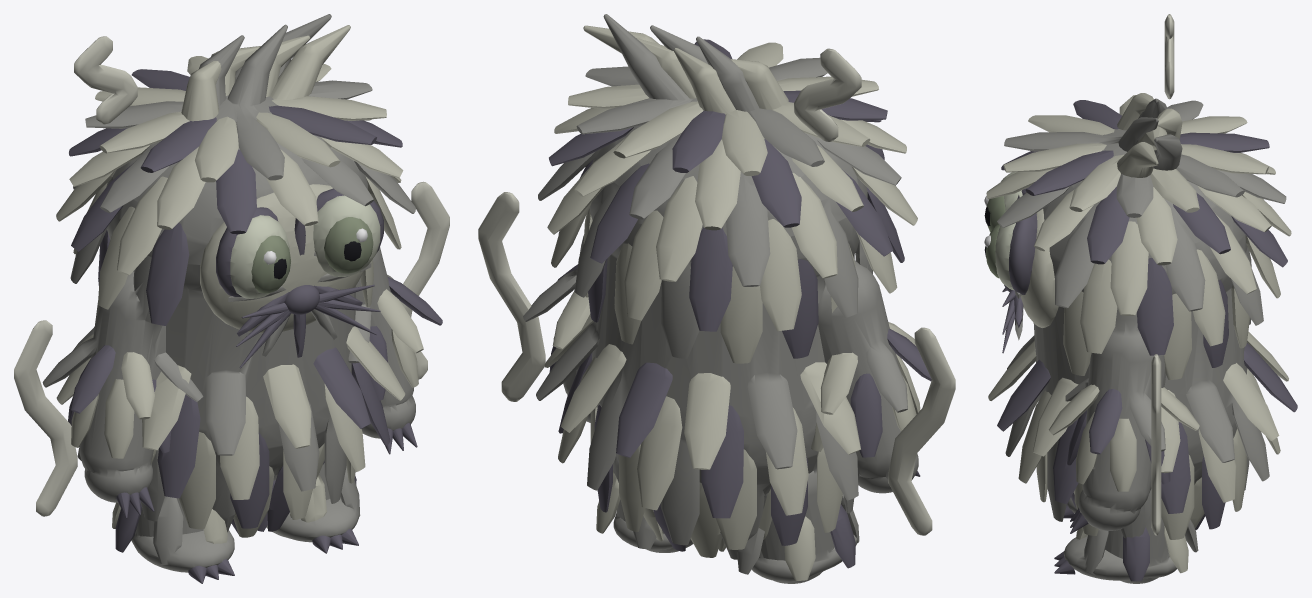
The model's file is fibrostis.glb.
The picture shows the model from 3 angles, left to right: view 1: azimuth 30°, elevation 25°; view 2: azimuth 150°, elevation 25°; view 3: azimuth 270°, elevation 25°; orthographic projection. The views are drawn at different scales.
Parts seen in each view (by area): view 1: creature; view 2: creature; view 3: creature.
Part boxes in pixels (x1,y1,x2,y2): creature: (14, 14, 449, 583); creature: (478, 14, 955, 583); creature: (984, 14, 1297, 583).
Size of the model in its own units: 0.8813 by 1 by 0.5859.
